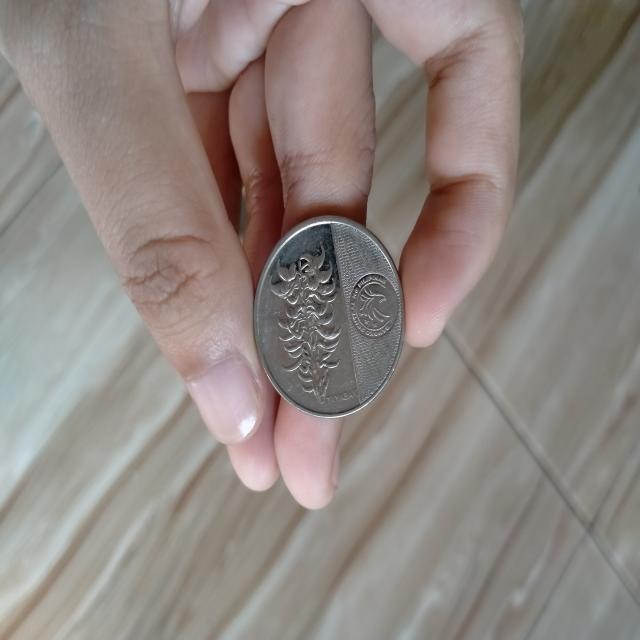5_New_Back: (267, 241, 345, 418)
